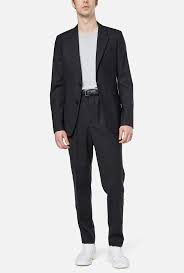F_M_suit jacket: (47, 19, 142, 136)
F_belt: (69, 85, 109, 100)
F_dress pants: (62, 98, 130, 249)
